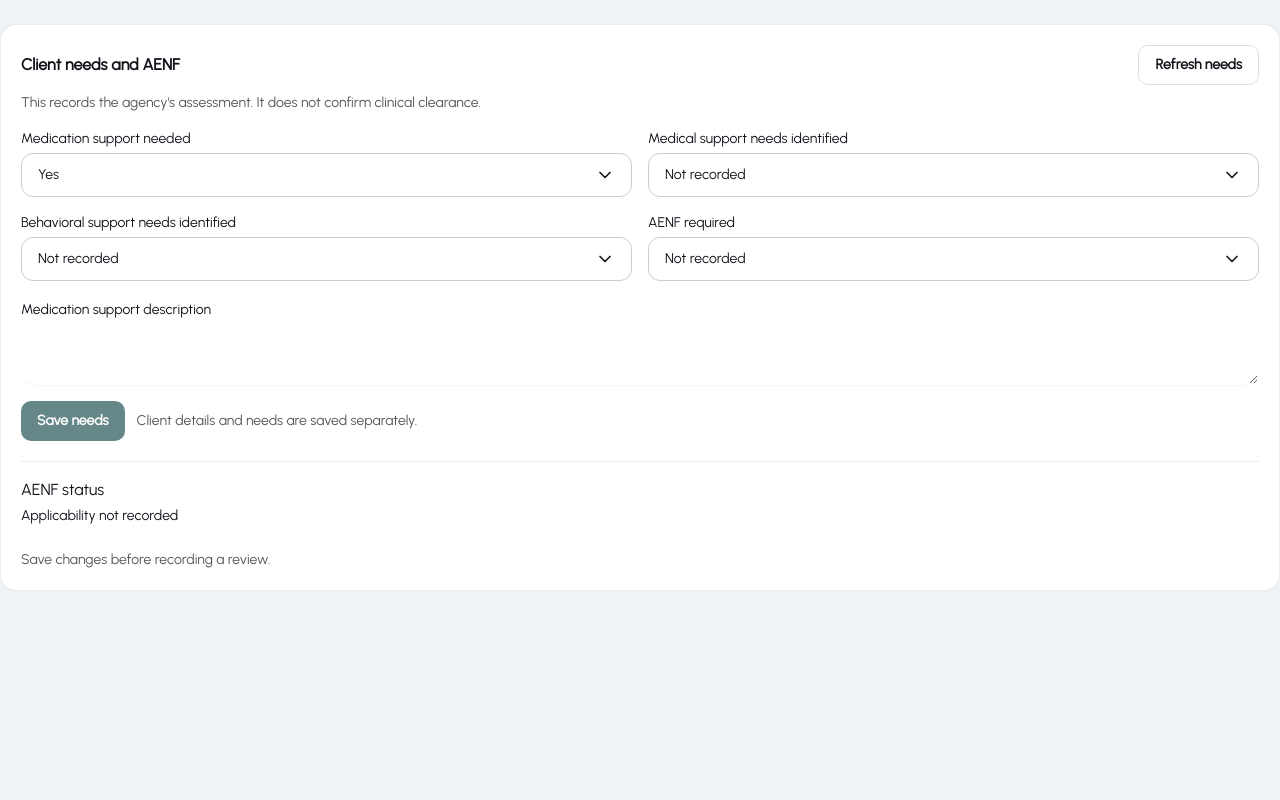
client needs › retains edits after a failed save and clears private drafts on authority loss
Earlier steps of the test are not shown.
In the text box labelled "Medication support description": (640, 353) x1=21 y1=321 x2=1259 y2=385, type "Private draft"
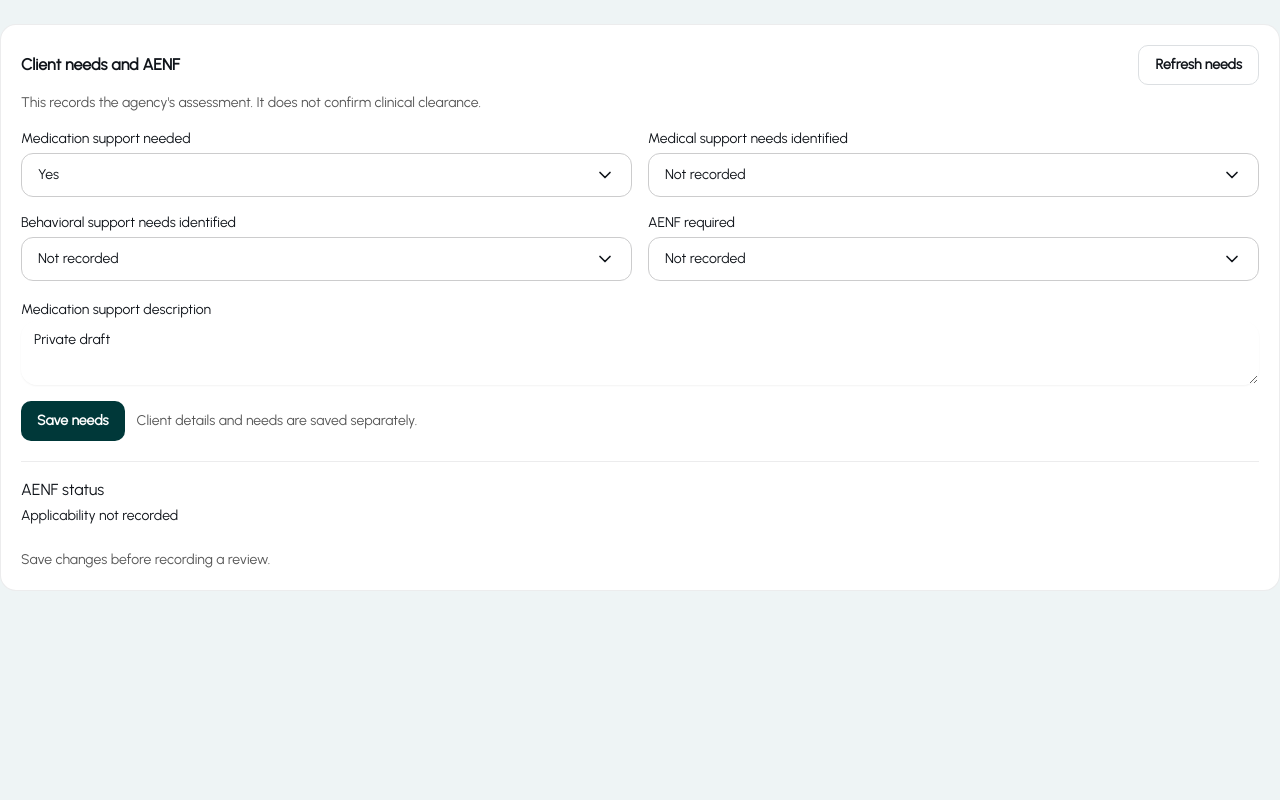
Click the button "Save needs": click(73, 421) x1=21 y1=401 x2=125 y2=441
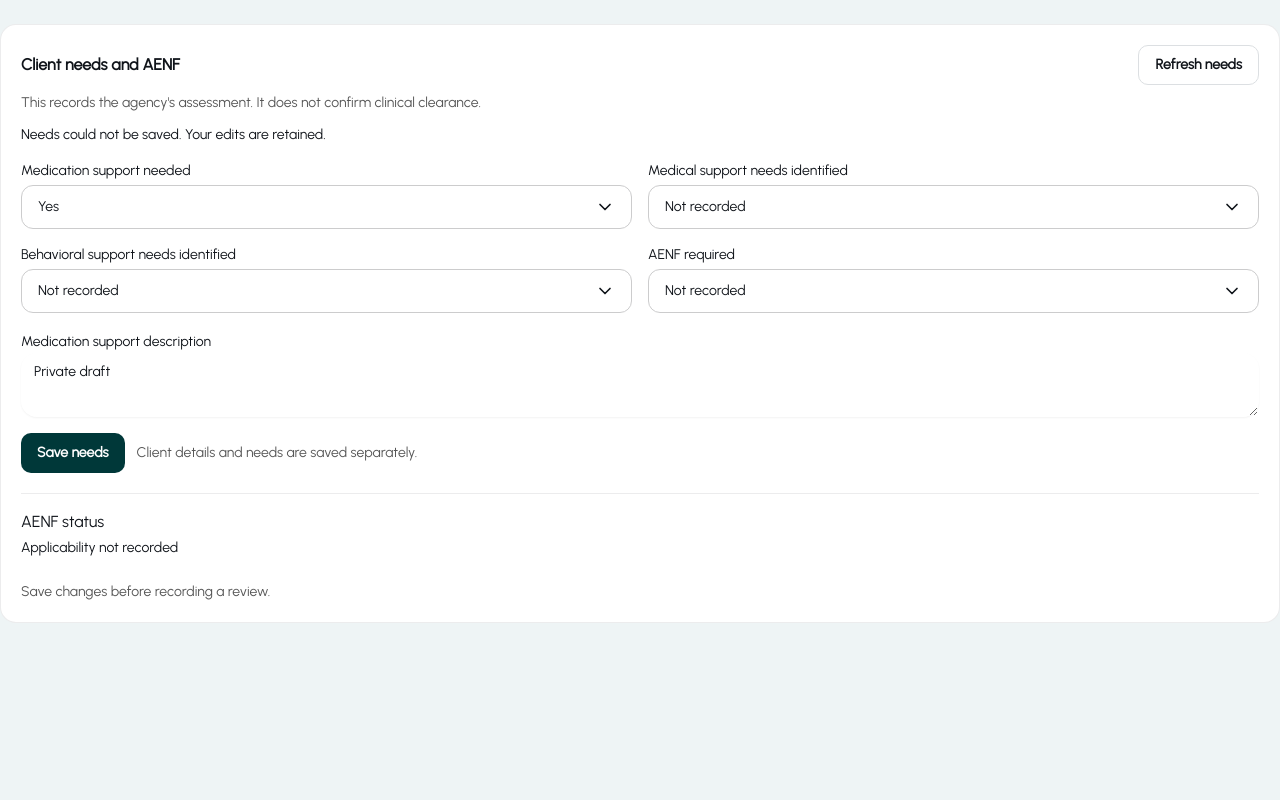
Result: the text "Needs could not be saved. Your edits are retained." is shown at x1=21 y1=126 x2=326 y2=143
Click the button "Save needs": click(73, 453) x1=21 y1=433 x2=125 y2=473
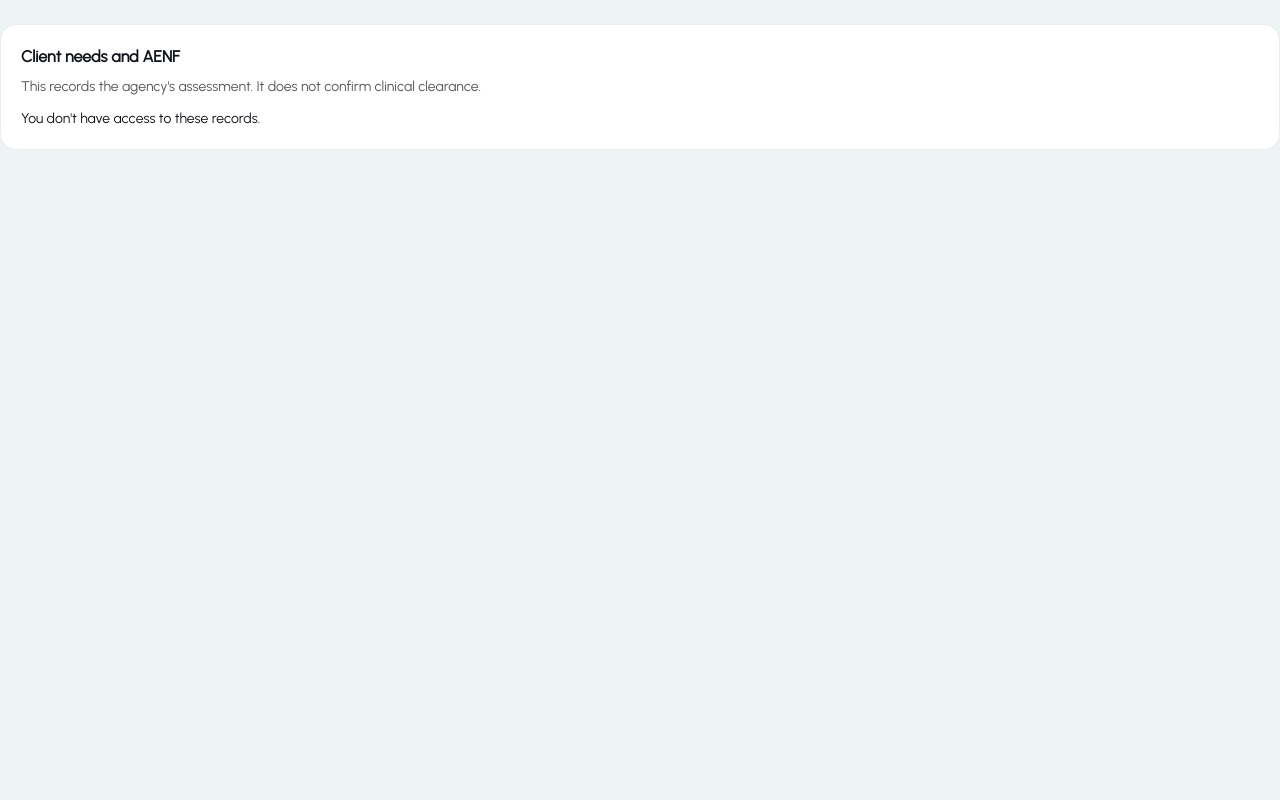
Expected: the field showing "Private draft" is not shown
Result: the text "You don't have access to these records." is shown at x1=21 y1=110 x2=260 y2=127
